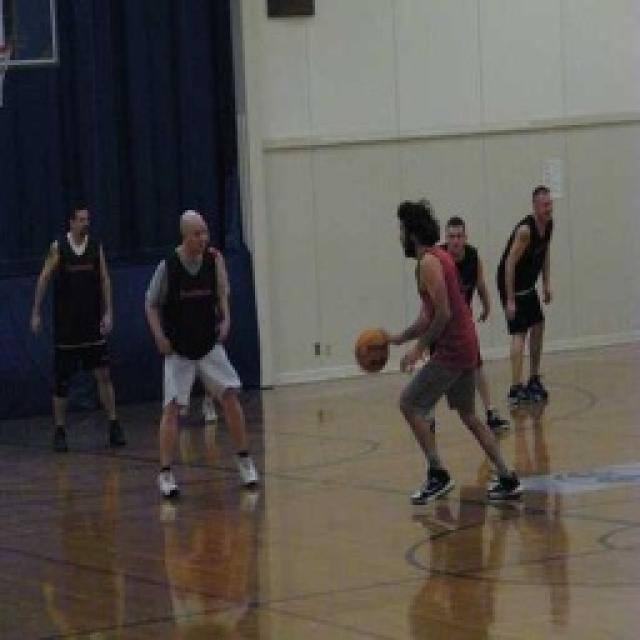rim: (349, 326, 396, 376)
